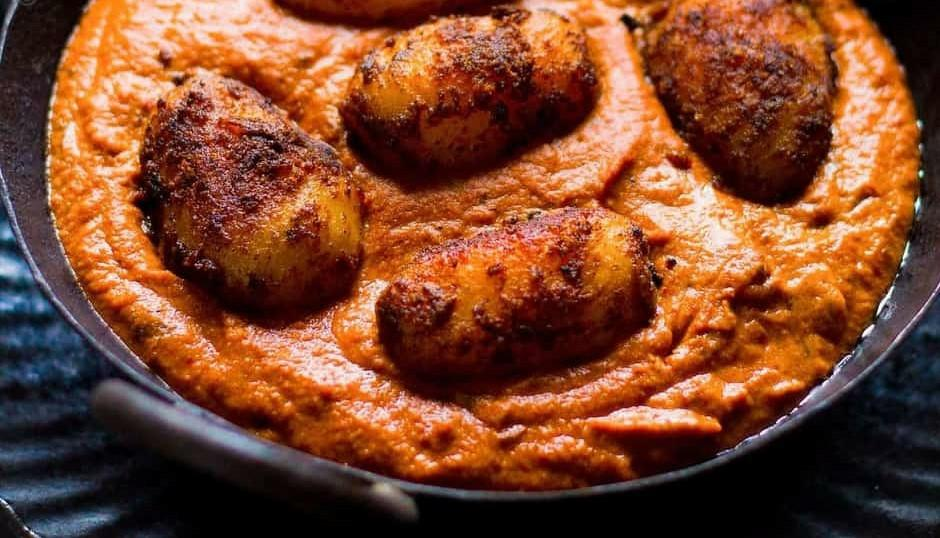DumAloo: (46, 0, 918, 491)
